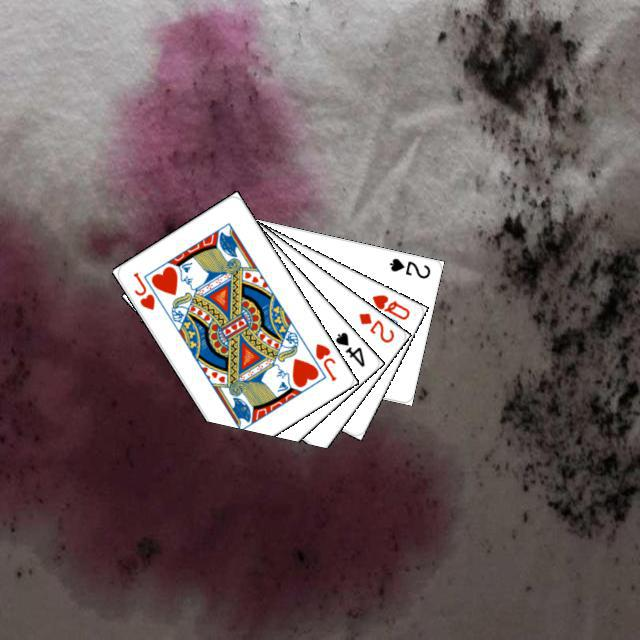2d: (354, 308, 396, 345)
2s: (384, 253, 432, 280)
4s: (330, 327, 367, 369)
Jh: (128, 267, 157, 312), (310, 338, 338, 383)
Qh: (367, 289, 412, 322)
